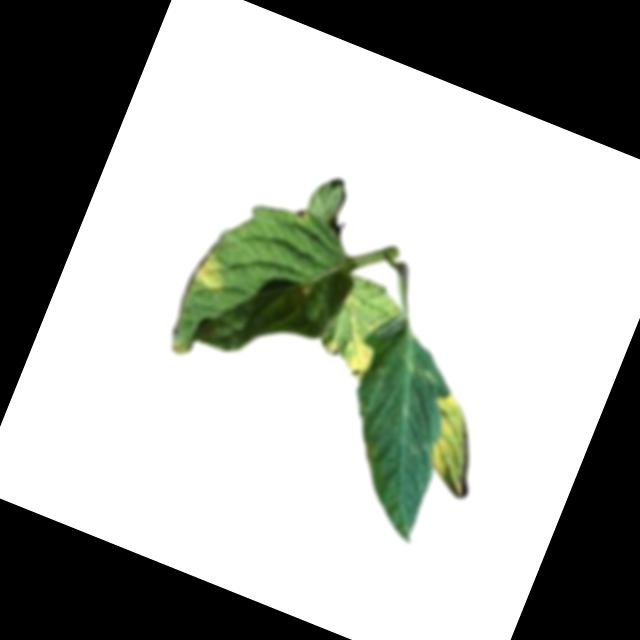Leaf_Mold: (410, 389, 499, 499), (316, 327, 377, 382), (186, 247, 233, 295)
